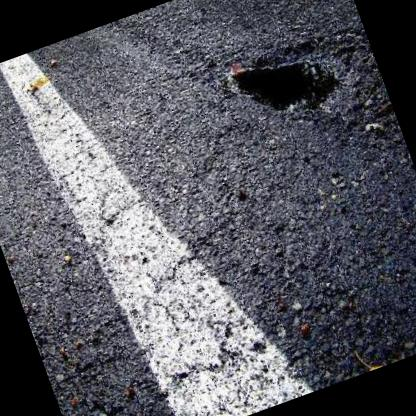pothole: (216, 19, 370, 156)
